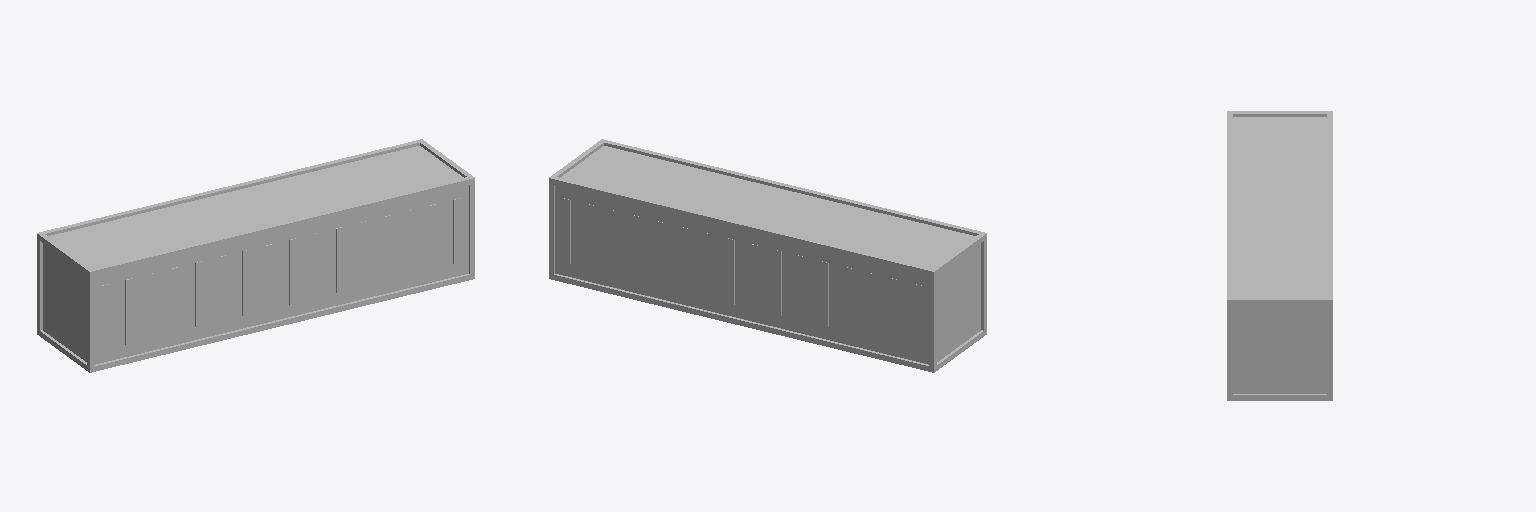
The model's file is 堆高机.obj.
3 views of the same model, side by side, from view 1: azimuth 30°, elevation 25°; view 2: azimuth 150°, elevation 25°; view 3: azimuth 270°, elevation 25° (orthographic).
Parts seen in each view (by area): view 1: 立方体; view 2: 立方体; view 3: 立方体.
Part boxes in pixels (x1,y1,x2,y2): 立方体: (37,139,474,372); 立方体: (549,139,986,372); 立方体: (1227,111,1332,400).
Bounding box in the file's own units: 9.85 × 2.47 × 2.35.